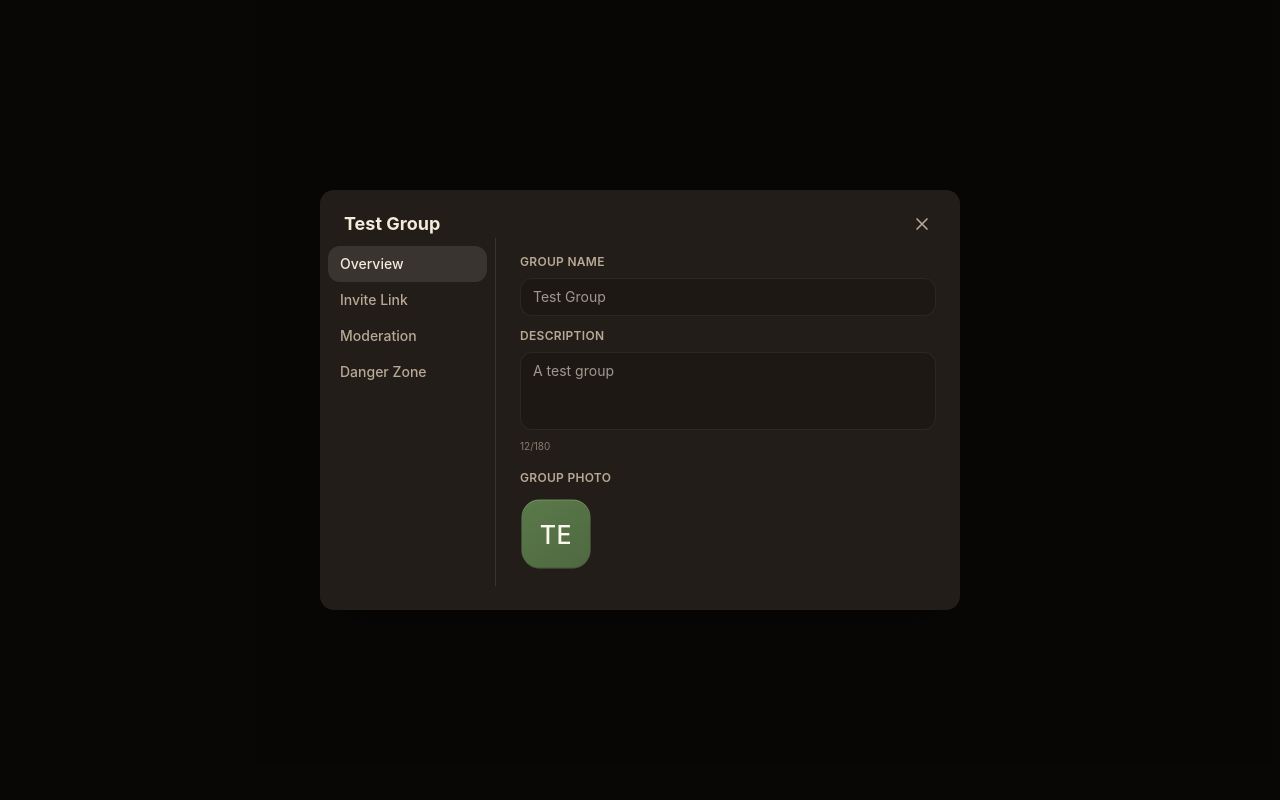
Test: GroupSettingsModal › copies invite link when Copy button is clicked
Click the button with test id "nav-invite".
click(408, 300)  # box x1=328 y1=282 x2=487 y2=318
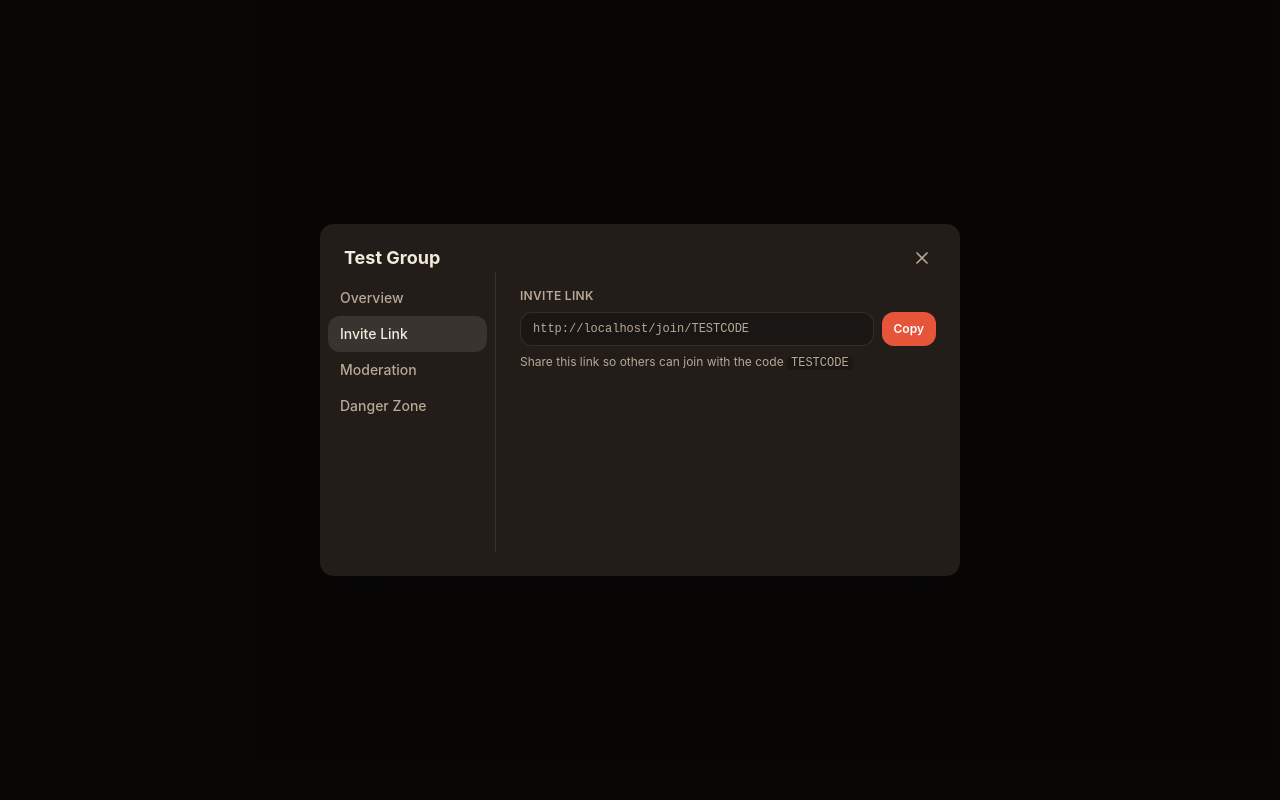
Click the button "Copy".
click(909, 329)  # box x1=882 y1=312 x2=936 y2=346
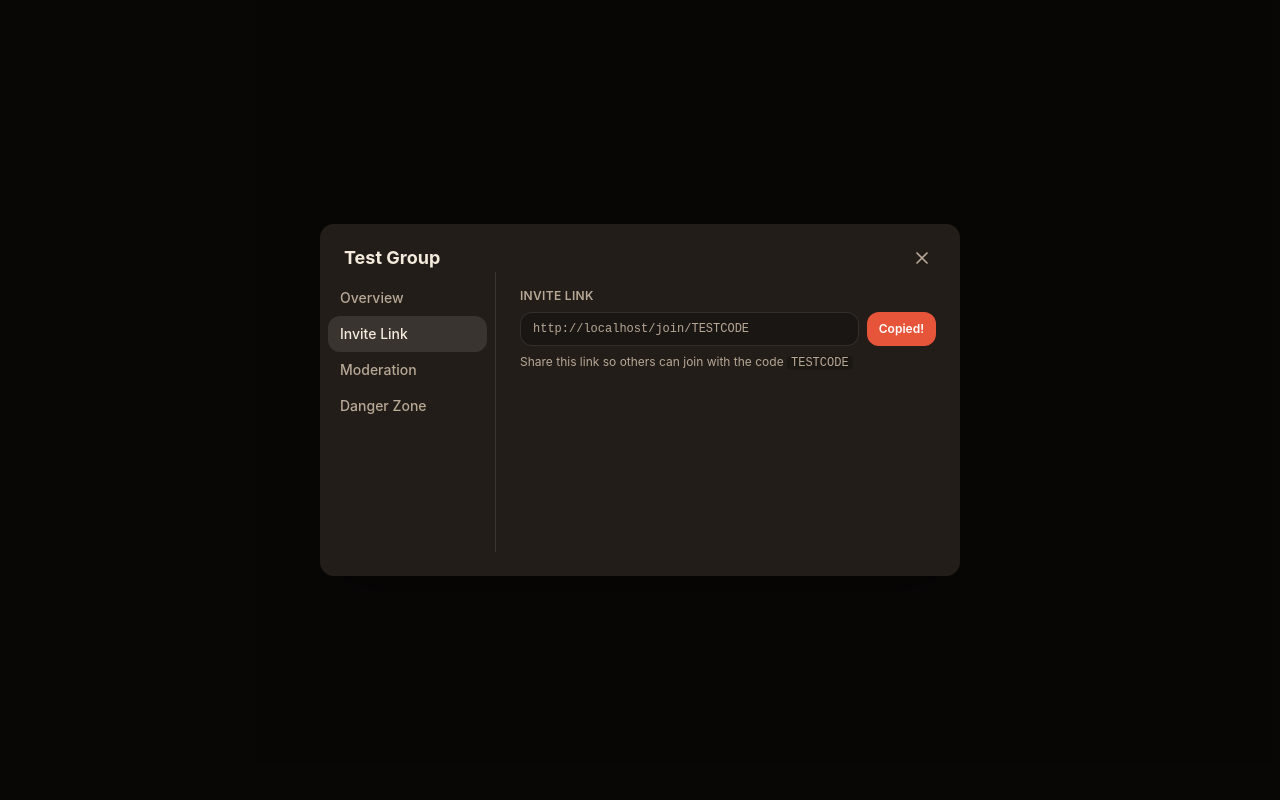
expect the button "Copied!" is shown: met, box x1=867 y1=312 x2=936 y2=346
